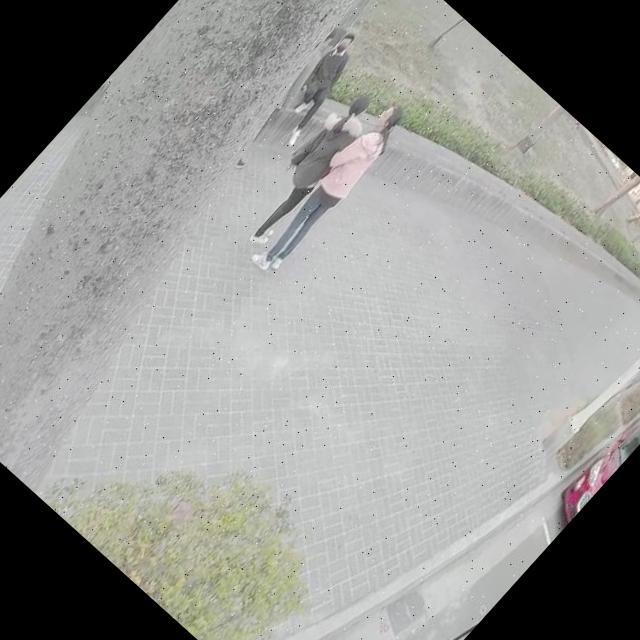person: (245, 100, 410, 278), (230, 82, 384, 248), (220, 26, 352, 168), (265, 29, 373, 144)
